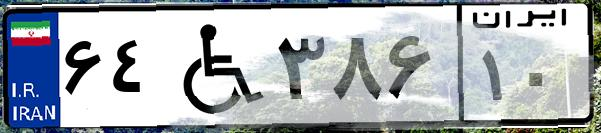0: (525, 38, 570, 115)
1: (475, 38, 525, 113)
3: (270, 28, 330, 110)
4: (110, 28, 158, 98)
6: (385, 28, 445, 110), (57, 26, 110, 100)
8: (330, 28, 385, 110)
ژ (معلولین و جانبازان): (158, 12, 270, 120)
